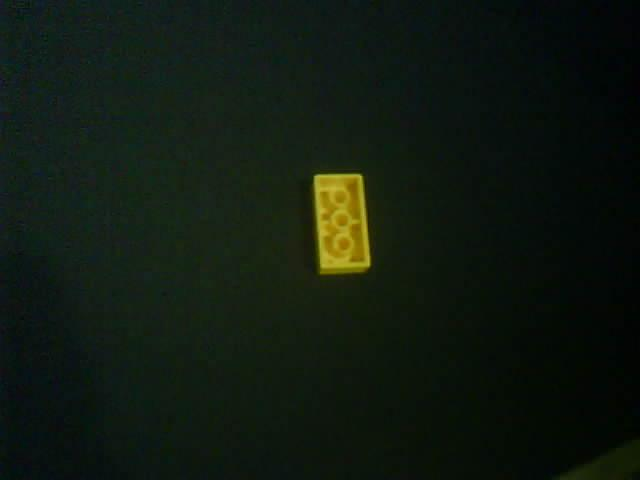lego: (311, 172, 372, 275)
